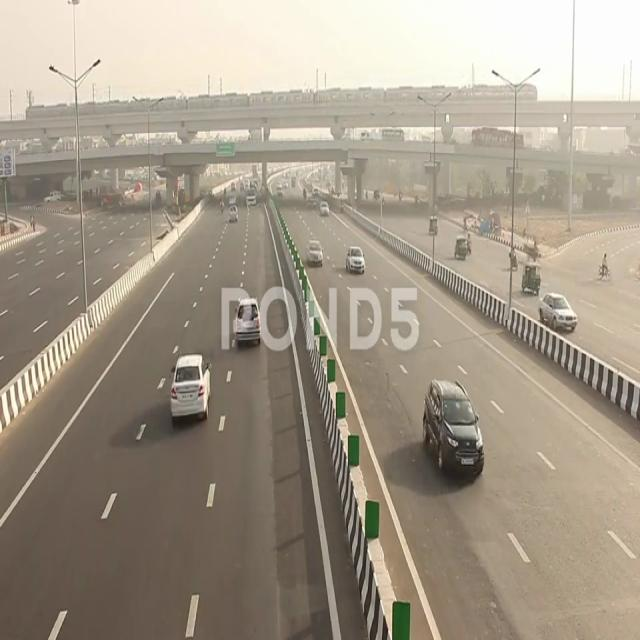bicycle: (598, 250, 613, 284)
car: (420, 377, 488, 493), (166, 343, 214, 439), (232, 286, 264, 356), (542, 289, 580, 339), (342, 241, 368, 284)
rikshaw: (521, 261, 541, 296), (453, 235, 468, 262)
